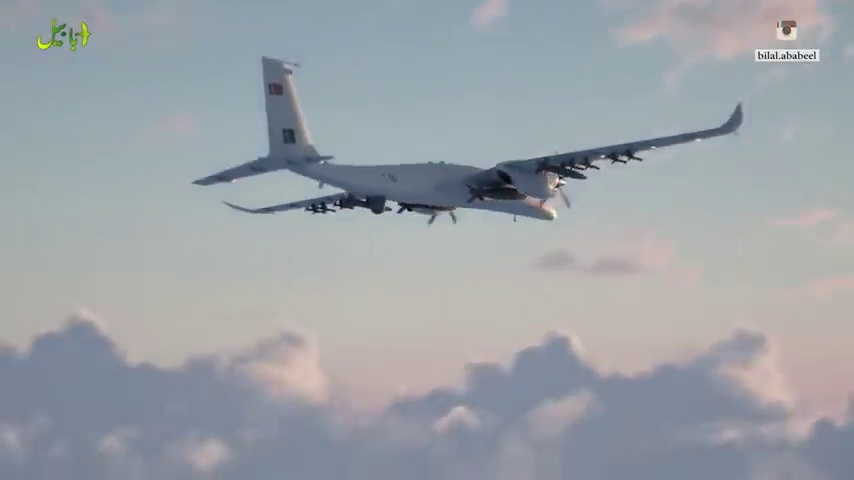military drone: (190, 55, 743, 226)
